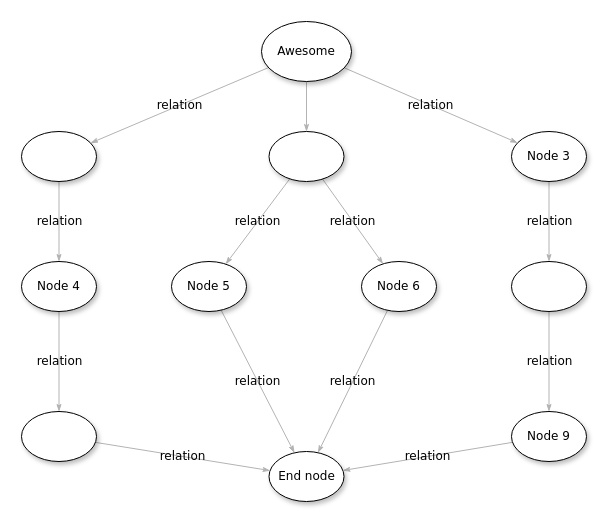
This 610x526 diagram has some shape labels left out. The centre of each missing label's shape, as x and y in pixels:
Node 1: (59,157)
Node 2: (307,157)
Node 7: (549,287)
Node 8: (59,437)
